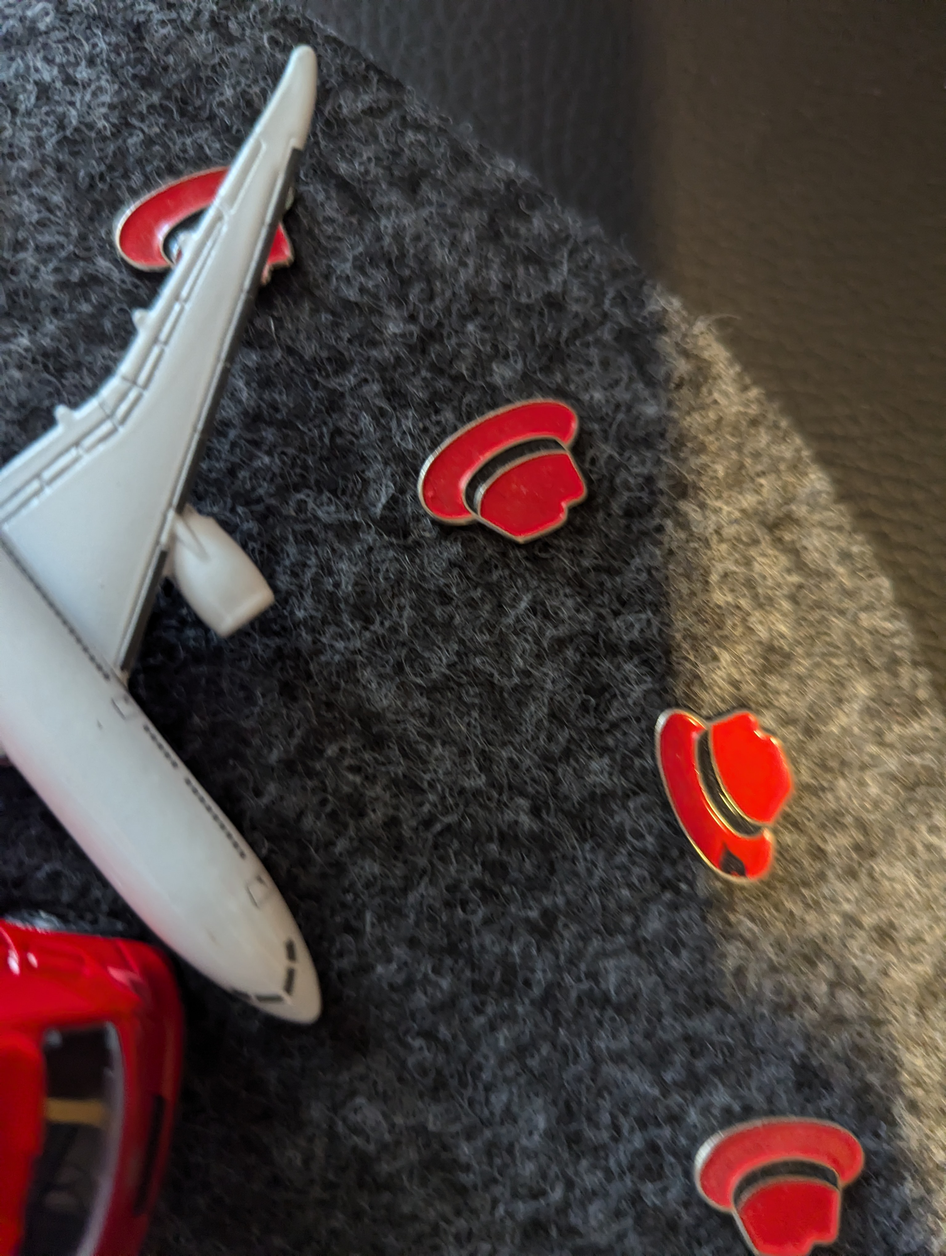Airplane: (0, 31, 426, 1079)
Red-Hat: (627, 673, 811, 940), (399, 365, 613, 571), (90, 132, 330, 308), (678, 1075, 903, 1256)
Scratch: (702, 836, 769, 893)
